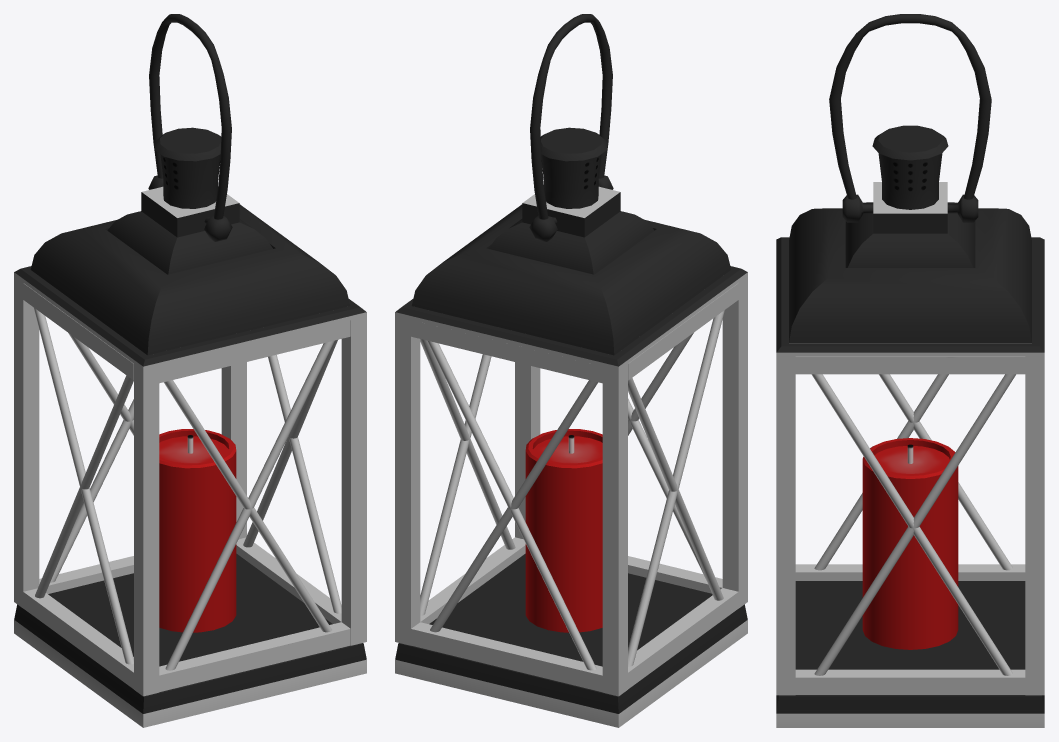
File: Lantern.glb
The picture shows the model from 3 angles, left to right: view 1: azimuth 30°, elevation 25°; view 2: azimuth 150°, elevation 25°; view 3: azimuth 270°, elevation 25°; orthographic projection. The views are drawn at different scales.
Visible parts, largest first — view 1: pCube15, pCylinder16, pCube16, pCube1, pCube2, pCube4, pCube6, pCube9, pCylinder15, pCylinder4, pCylinder10, pCube11 (+13 smaller); view 2: pCube15, pCylinder16, pCube16, pCube1, pCube6, pCube5, pCube2, pCube7, pCylinder15, pCylinder1, pCylinder9, pCube11 (+13 smaller); view 3: pCube15, pCylinder16, pCube1, pCube16, pCube4, pCube5, pCube14, pCylinder15, pCube13, pCylinder8, pCylinder7, pCylinder11 (+6 smaller).
Boxes of the visible parts, x1=… form: pCube15: x1=14, y1=186, x2=366, y2=370; pCylinder16: x1=159, y1=429, x2=236, y2=632; pCube16: x1=14, y1=604, x2=366, y2=727; pCube1: x1=48, y1=553, x2=332, y2=666; pCube2: x1=134, y1=364, x2=159, y2=696; pCube4: x1=341, y1=316, x2=366, y2=645; pCube6: x1=14, y1=276, x2=39, y2=608; pCube9: x1=159, y1=622, x2=350, y2=691; pCylinder15: x1=149, y1=14, x2=231, y2=219; pCylinder4: x1=165, y1=340, x2=334, y2=670; pCylinder10: x1=34, y1=308, x2=133, y2=664; pCube11: x1=23, y1=588, x2=133, y2=689; pCube15: x1=395, y1=186, x2=747, y2=370; pCylinder16: x1=525, y1=429, x2=602, y2=632; pCube16: x1=395, y1=604, x2=747, y2=727; pCube1: x1=429, y1=553, x2=712, y2=666; pCube6: x1=602, y1=364, x2=627, y2=696; pCube5: x1=395, y1=316, x2=420, y2=645; pCube2: x1=722, y1=276, x2=747, y2=608; pCube7: x1=411, y1=622, x2=602, y2=692; pCylinder15: x1=530, y1=14, x2=612, y2=219; pCylinder1: x1=427, y1=340, x2=596, y2=670; pCylinder9: x1=628, y1=310, x2=724, y2=666; pCube11: x1=628, y1=588, x2=738, y2=689; pCube15: x1=776, y1=182, x2=1044, y2=356; pCylinder16: x1=862, y1=438, x2=958, y2=649; pCube1: x1=795, y1=581, x2=1025, y2=669; pCube16: x1=776, y1=695, x2=1044, y2=727; pCube4: x1=776, y1=357, x2=795, y2=695; pCube5: x1=1025, y1=357, x2=1044, y2=695; pCube14: x1=795, y1=669, x2=1025, y2=694; pCylinder15: x1=829, y1=14, x2=991, y2=199; pCube13: x1=795, y1=356, x2=1025, y2=374; pCylinder8: x1=811, y1=374, x2=1012, y2=675; pCylinder7: x1=814, y1=374, x2=1015, y2=675; pCylinder11: x1=878, y1=153, x2=942, y2=209.
Bounding box in the file's own units: 28.07 × 75.69 × 28.
Materials: 1 (1 with a texture image).
